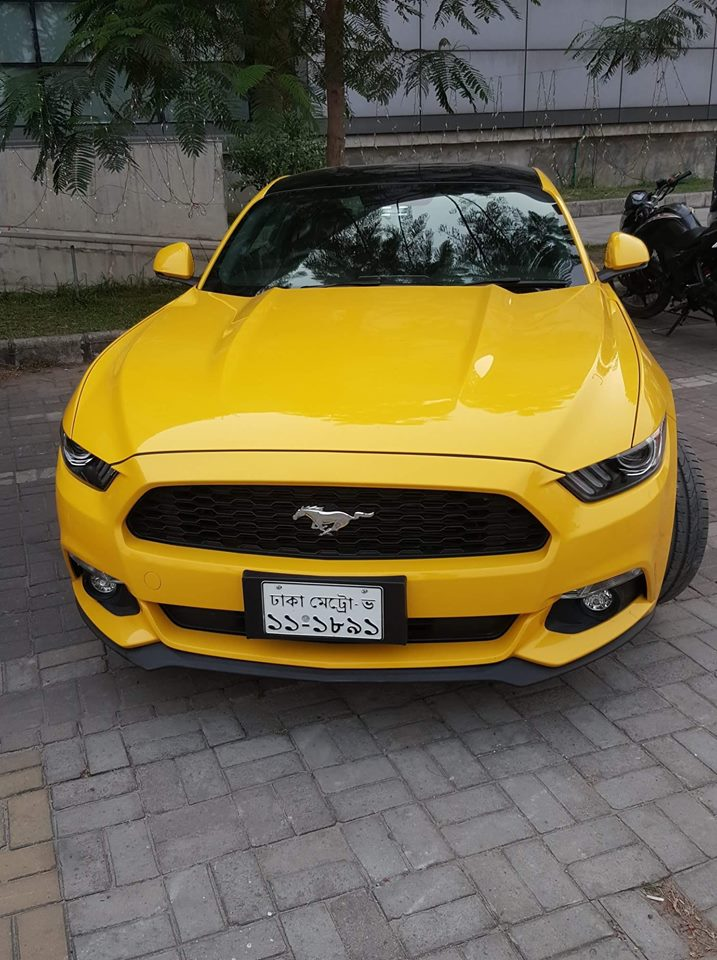registration_plate: (260, 580, 385, 641)
